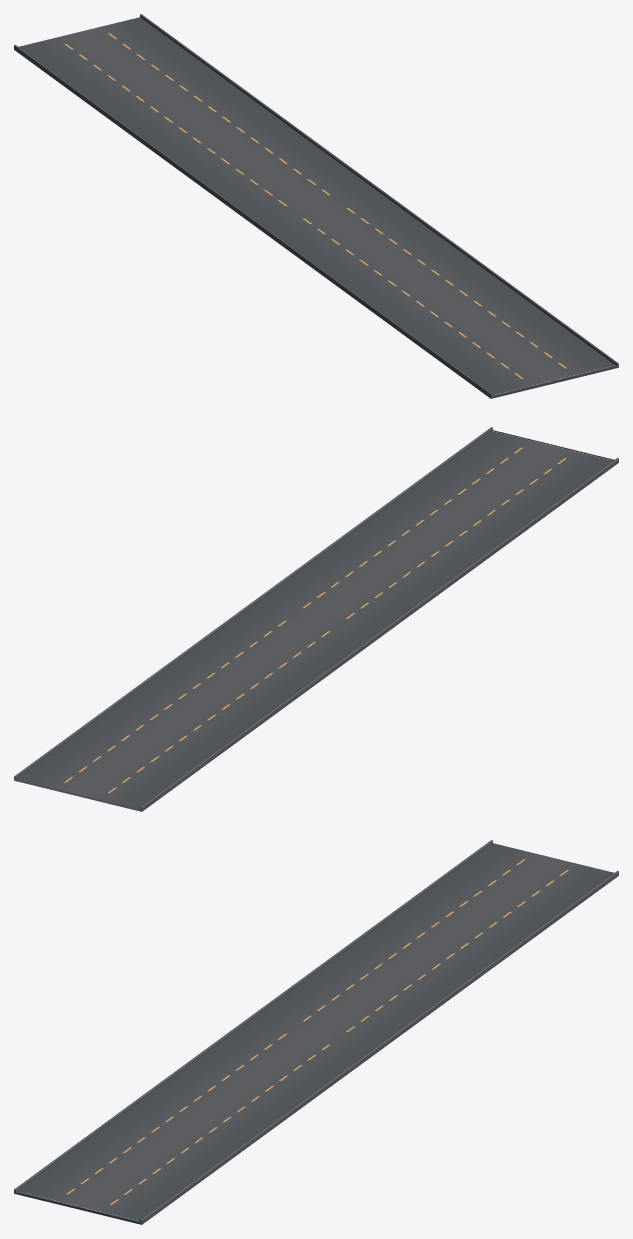
The picture shows the model from 3 angles, top to bottom: view 1: azimuth 30°, elevation 25°; view 2: azimuth 150°, elevation 25°; view 3: azimuth 330°, elevation 25°; orthographic projection.
Parts seen in each view (by area): view 1: PathLevel1.007, PathLevel1.008; view 2: PathLevel1.008, PathLevel1.007; view 3: PathLevel1.007, PathLevel1.008.
Boxes of the visible parts, bbox=[...] form: PathLevel1.007: bbox=[252, 188, 618, 398]; PathLevel1.008: bbox=[14, 14, 379, 223]; PathLevel1.008: bbox=[14, 601, 380, 811]; PathLevel1.007: bbox=[253, 427, 618, 636]; PathLevel1.007: bbox=[14, 1014, 380, 1224]; PathLevel1.008: bbox=[253, 840, 618, 1049].
Bounding box in the file's own units: 620 × 21.99 × 4004.
